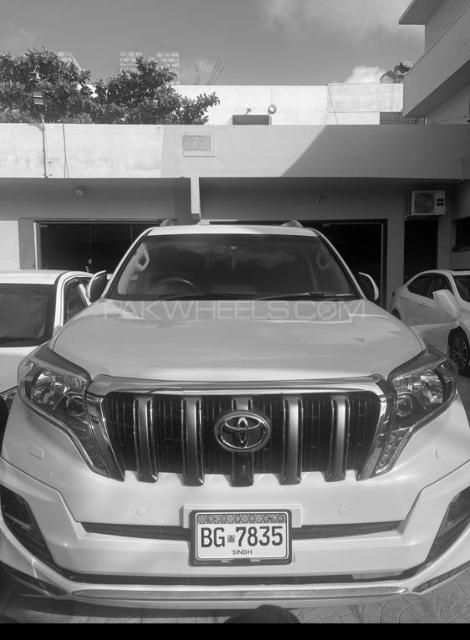Number: (200, 522, 286, 548), (184, 138, 212, 152)
